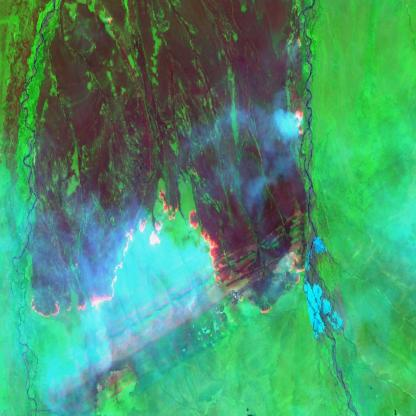fire: (26, 177, 314, 326), (288, 104, 310, 139)
